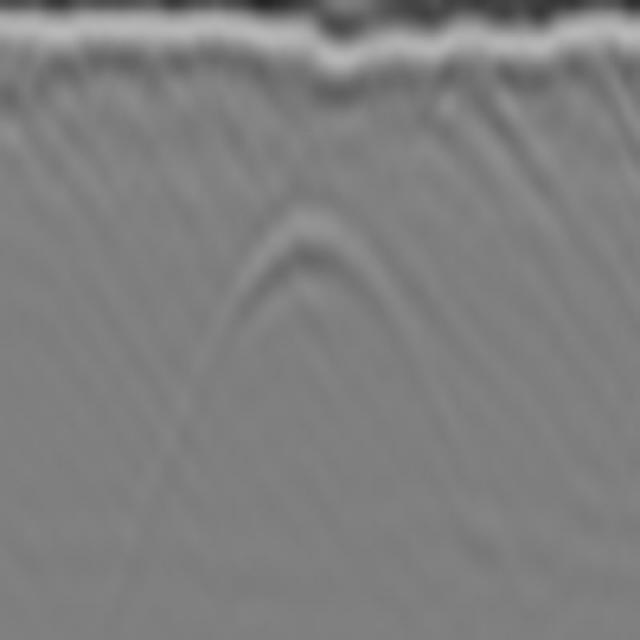hyperbola: (206, 191, 430, 403)
